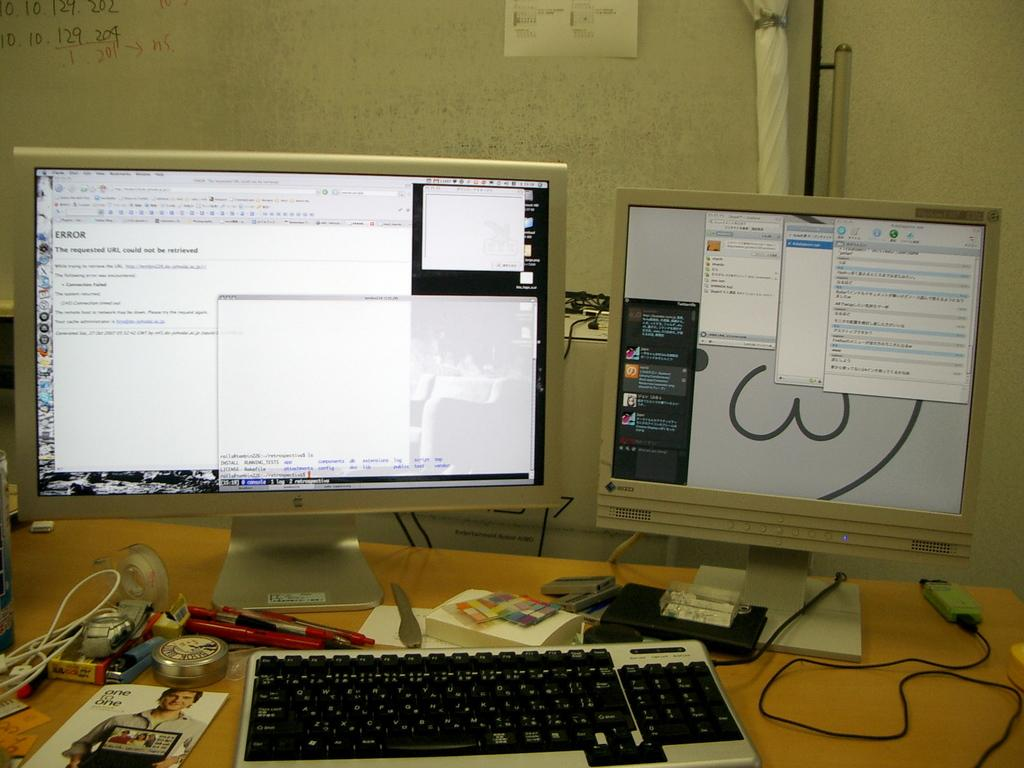Computer-keyboard: (234, 637, 765, 767)
Computer-monitor: (34, 162, 572, 637), (597, 192, 998, 564)
